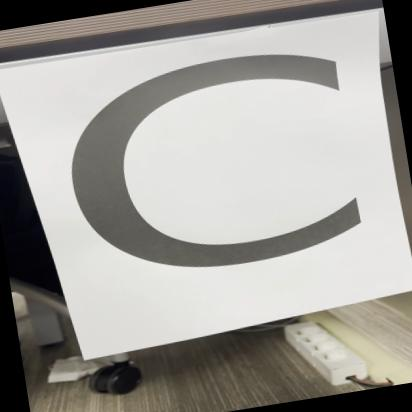seat: (0, 13, 412, 369)
